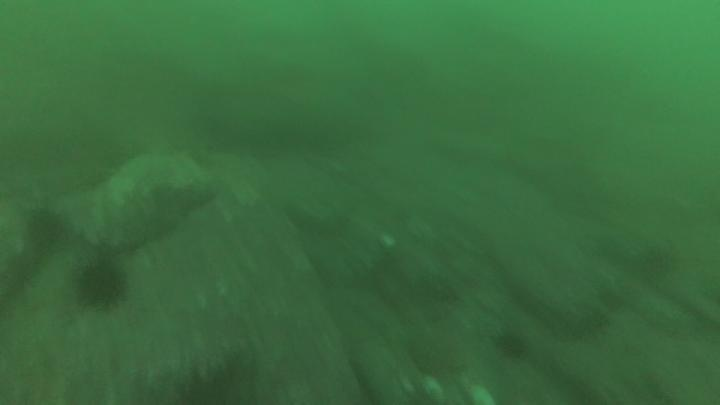echinus: (73, 256, 130, 312), (23, 206, 68, 252), (492, 328, 530, 361)
